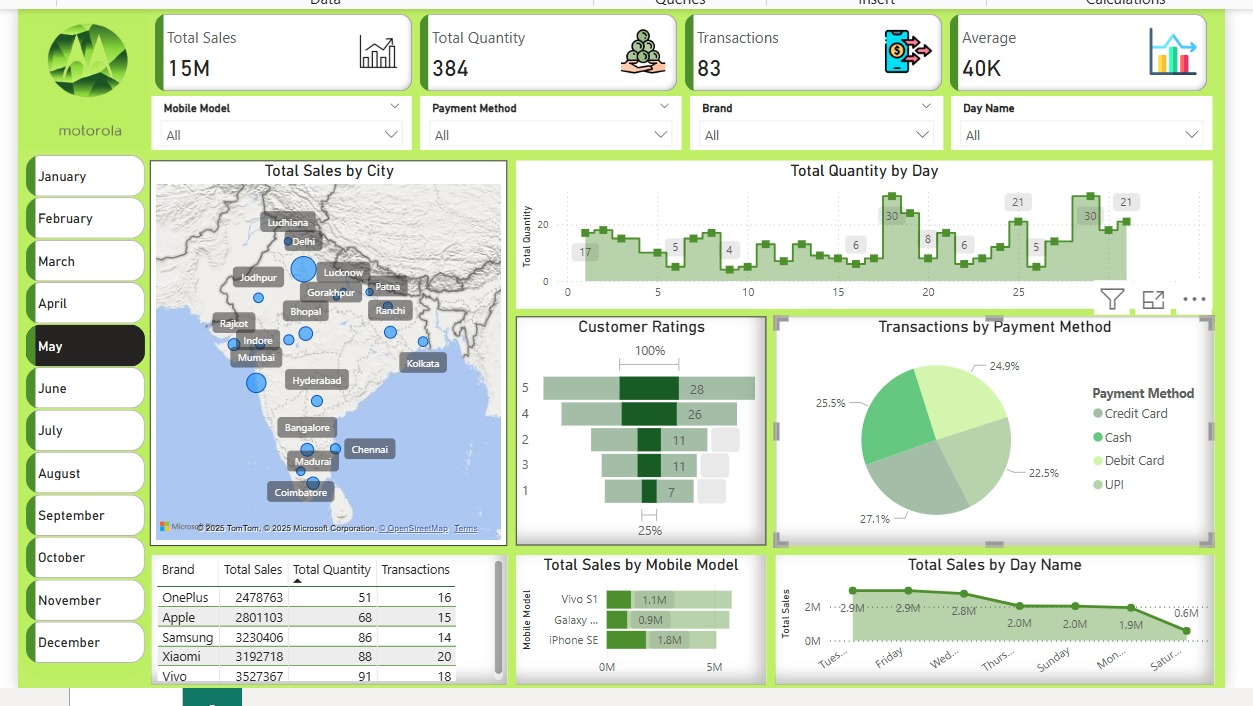

This screenshot's page, from the dashboard's own definition file:
{"tool":"powerbi","page":{"name":"Page 1","canvas":[1280,720],"ordinal":0},"visuals":[{"type":"shape","box":[0,0,139.9,149.7],"z":0},{"type":"image","box":[0,0,149.7,149.7],"z":1000},{"type":"shape","box":[0,193.9,139.9,516.6],"z":2000},{"type":"advancedSlicerVisual","fields":{"Values":["Sales_Data.DATE.Variation.Date Hierarchy.Month"]},"box":[3.7,149.7,136.2,560.7],"z":3000},{"type":"cardVisual","fields":{"Data":["Sales_Data.Total Sales","Sales_Data.Total Quantity","Sales_Data.Transactions","Sales_Data.Average"]},"box":[140,0,1127.5,92.5],"z":4000},{"type":"map","fields":{"Category":["Sales_Data.City"],"Size":["Sales_Data.Total Sales"]},"box":[140,160,378.8,408.8],"z":5000},{"type":"lineChart","fields":{"Y":["Sales_Data.Total Quantity"],"Category":["Sales_Data.DATE.Variation.Date Hierarchy.Month","Sales_Data.DATE.Variation.Date Hierarchy.Day"]},"box":[528.8,160,738.8,157.5],"z":6000},{"type":"clusteredBarChart","fields":{"Category":["Sales_Data.Mobile Model"],"Y":["Sales_Data.Total Sales"]},"box":[528.8,578.8,265,137.5],"z":7000},{"type":"pieChart","fields":{"Category":["Sales_Data.Payment Method"],"Y":["Sales_Data.Transactions"]},"box":[802.5,326.2,465,242.5],"z":8000},{"type":"funnel","title":"Customer Ratings ","fields":{"Category":["Sales_Data.Customer Ratings"],"Y":["CountNonNull(Sales_Data.Customer Ratings)"]},"box":[528.8,326.2,265,242.5],"z":9000},{"type":"areaChart","fields":{"Category":["Sales_Data.Day Name"],"Y":["Sales_Data.Total Sales"]},"box":[802.5,578.8,465,137.5],"z":10000},{"type":"tableEx","fields":{"Values":["Sales_Data.Brand","Sales_Data.Total Sales","Sales_Data.Total Quantity","Sales_Data.Transactions"]},"box":[141.2,578.8,377.5,137.5],"z":11000},{"type":"slicer","fields":{"Values":["Sales_Data.Day Name"]},"box":[990,92.5,277.5,57.5],"z":11001},{"type":"slicer","fields":{"Values":["Sales_Data.Brand"]},"box":[712.5,92.5,268.8,57.5],"z":11002},{"type":"slicer","fields":{"Values":["Sales_Data.Mobile Model"]},"box":[141.2,92.5,276.2,57.5],"z":11003},{"type":"slicer","fields":{"Values":["Sales_Data.Payment Method"]},"box":[426.2,92.5,277.5,57.5],"z":11004}]}

Visuals, with their boxes in screenshot pixels (x1, y1, x2, y2):
shape: x1=23 y1=7 x2=153 y2=146
image: x1=23 y1=7 x2=162 y2=146
shape: x1=23 y1=187 x2=153 y2=668
advancedSlicerVisual - Sales_Data.DATE.Variation.Date Hierarchy.Month: x1=26 y1=146 x2=153 y2=668
cardVisual - Sales_Data.Total Sales x Sales_Data.Total Quantity: x1=153 y1=7 x2=1203 y2=93
map - Sales_Data.City x Sales_Data.Total Sales: x1=153 y1=156 x2=506 y2=536
lineChart - Sales_Data.Total Quantity x Sales_Data.DATE.Variation.Date Hierarchy.Month: x1=515 y1=156 x2=1203 y2=302
clusteredBarChart - Sales_Data.Mobile Model x Sales_Data.Total Sales: x1=515 y1=545 x2=762 y2=674
pieChart - Sales_Data.Payment Method x Sales_Data.Transactions: x1=770 y1=310 x2=1203 y2=536
"Customer Ratings " funnel: x1=515 y1=310 x2=762 y2=536
areaChart - Sales_Data.Day Name x Sales_Data.Total Sales: x1=770 y1=545 x2=1203 y2=674
tableEx - Sales_Data.Brand x Sales_Data.Total Sales: x1=154 y1=545 x2=506 y2=674
slicer - Sales_Data.Day Name: x1=945 y1=93 x2=1203 y2=146
slicer - Sales_Data.Brand: x1=686 y1=93 x2=937 y2=146
slicer - Sales_Data.Mobile Model: x1=154 y1=93 x2=412 y2=146
slicer - Sales_Data.Payment Method: x1=420 y1=93 x2=678 y2=146
